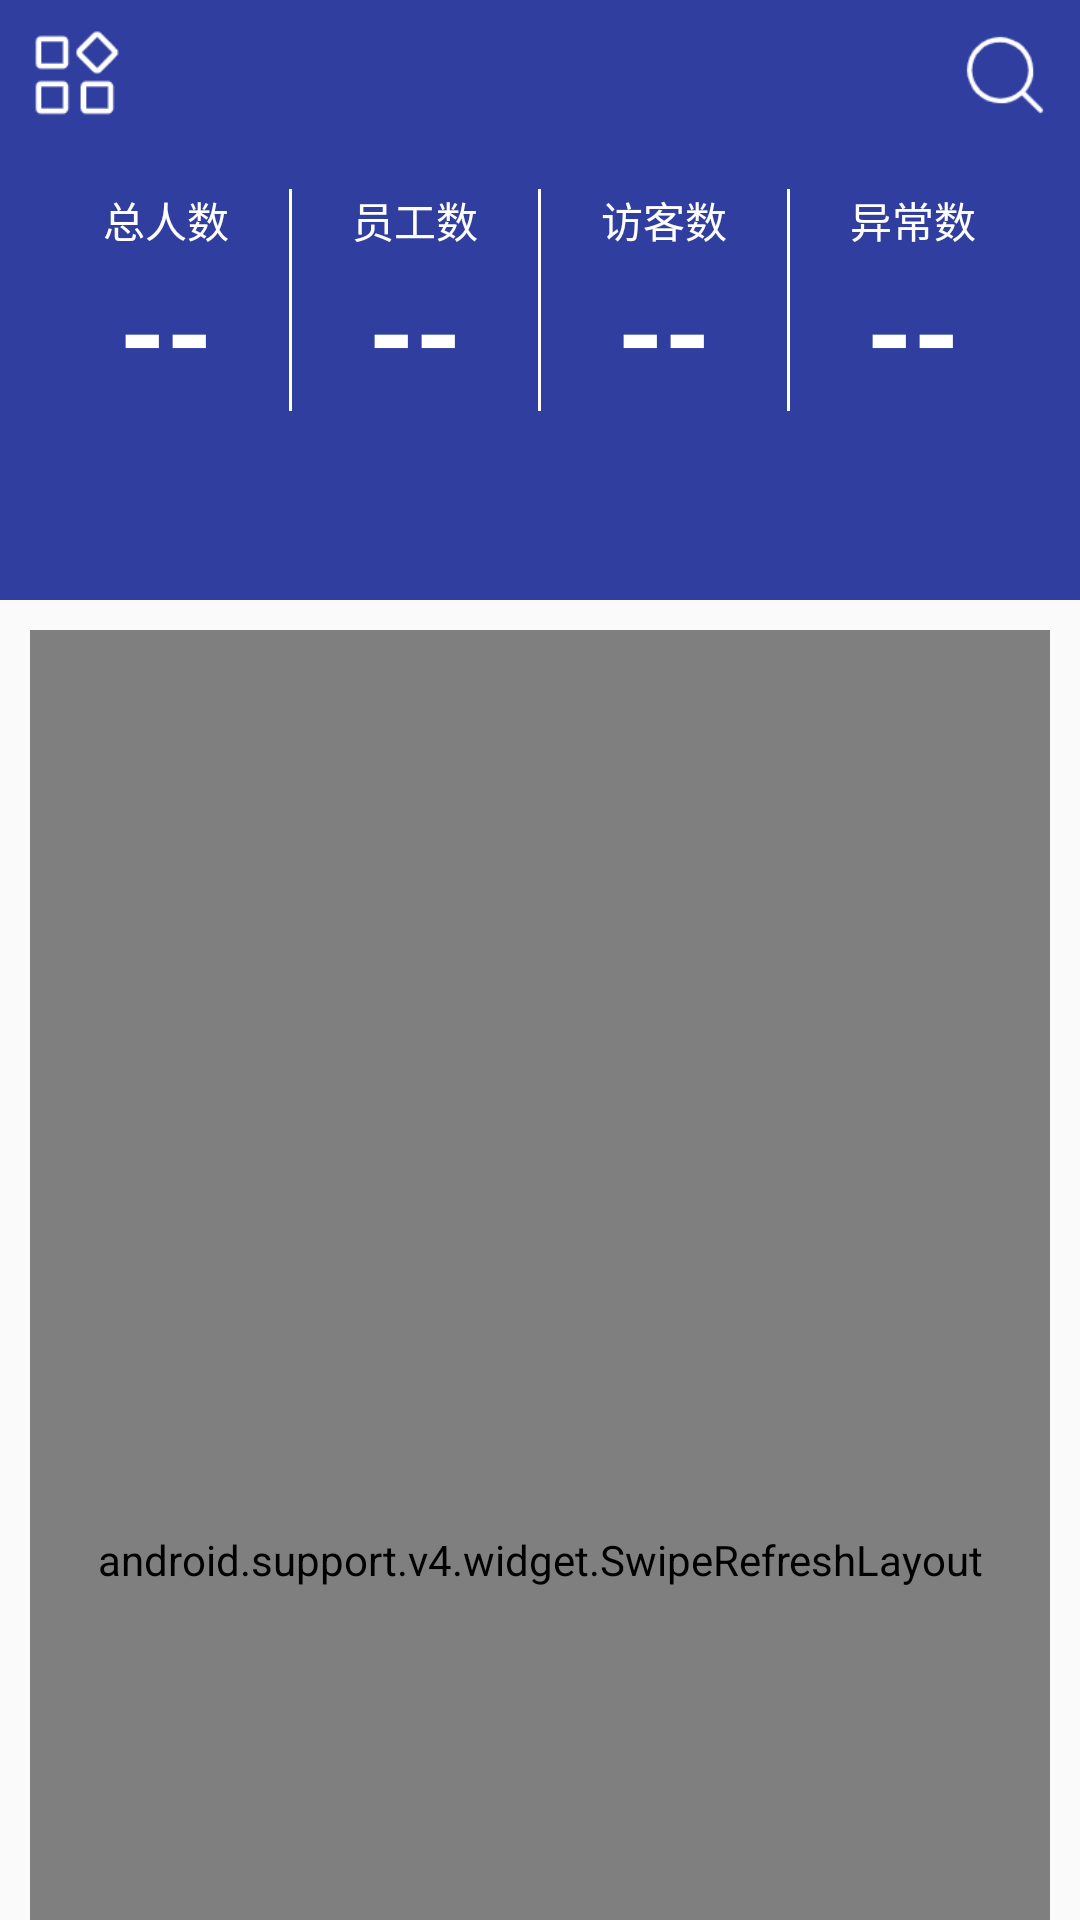

Point at icon controls on the screen. Image size 1080px x 1920px, points as (x,y).
more: (77,73)
search: (1005,75)
